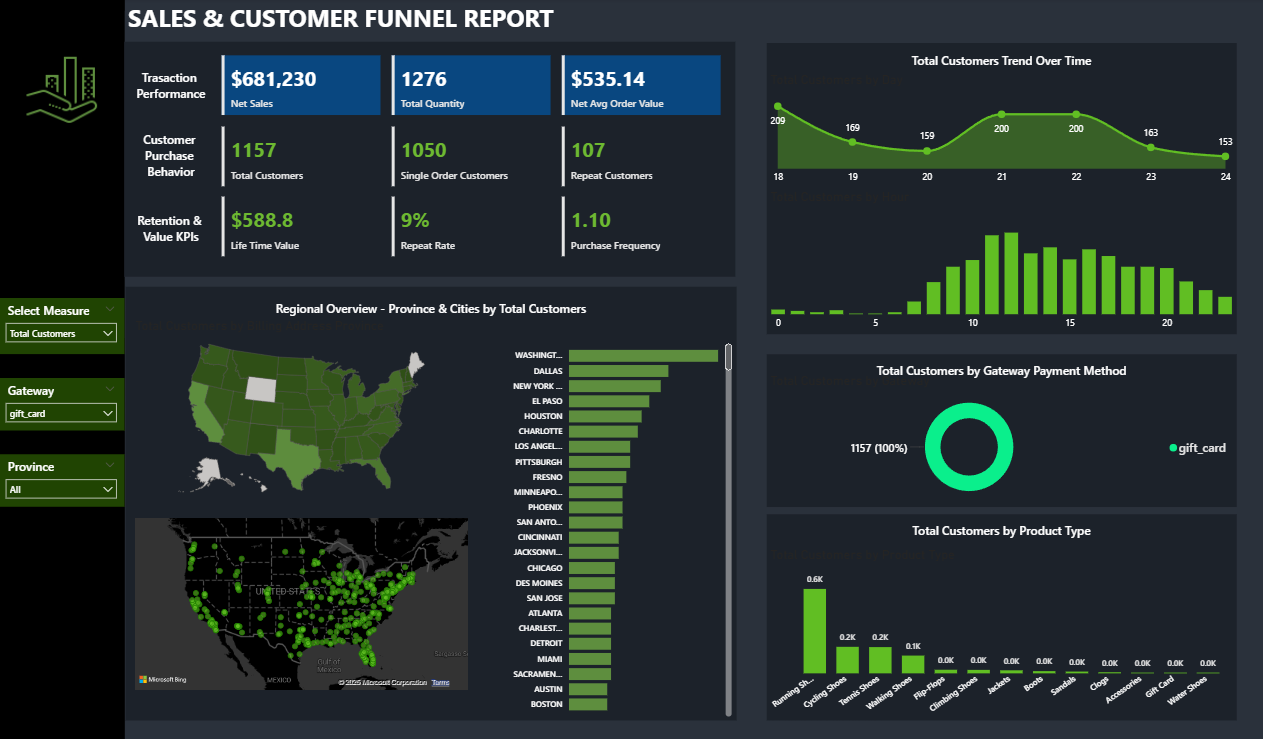

Layout of this report page (visuals, bound fields, positions):
{"tool":"powerbi","page":{"name":"Shopify Analysis","canvas":[1700,1000],"ordinal":0},"visuals":[{"type":"shape","box":[0,0,170,999],"z":0},{"type":"textbox","box":[169.2,0,754,58.6],"z":1000},{"type":"shape","box":[169.2,58.6,819.4,315],"z":2000},{"type":"cardVisual","fields":{"Data":["shopify_sales.Net Sales","shopify_sales.Total Quantity","shopify_sales.Net Avg Order Value"]},"box":[294.9,72.1,680.3,90.5],"z":3000},{"type":"card","fields":{"Values":["shopify_sales.Transaction Perf"]},"box":[169.2,82.1,125.7,70.4],"z":4000},{"type":"cardVisual","fields":{"Data":["shopify_sales.Total Customers","shopify_sales.Single Order Customers","shopify_sales.Repeat Customers"]},"box":[294.9,166.7,680.3,90.5],"z":5000},{"type":"card","fields":{"Values":["shopify_sales.Customer Purchase Behavior"]},"box":[169.2,160,125.7,93.8],"z":6000},{"type":"cardVisual","fields":{"Data":["shopify_sales.Life Time Value","shopify_sales.Repeat Rate","shopify_sales.Purchase Frequency"]},"box":[294.9,261.4,680.3,90.5],"z":7000},{"type":"card","fields":{"Values":["shopify_sales.Retention & Value KPIs"]},"box":[169.2,261.4,125.7,93.8],"z":8000},{"type":"shape","box":[170.9,387.1,819.4,581.4],"z":9000},{"type":"shapeMap","fields":{"Value":["shopify_sales.Total Customers"],"Category":["shopify_sales.Billing Address Province"]},"box":[179.3,429,455.8,249.7],"z":10000},{"type":"slicer","fields":{"Values":["Select Measure.Select Measure"]},"box":[0,402.1,169.2,75.4],"z":11000},{"type":"map","fields":{"Category":["shopify_sales.Location"]},"box":[179.3,692,455.8,241.3],"z":12000},{"type":"clusteredBarChart","fields":{"Y":["shopify_sales.Total Customers"],"Category":["shopify_sales.CITY"]},"box":[673.6,450.7,315,517.8],"z":13000},{"type":"card","fields":{"Values":["shopify_sales.Map Title"]},"box":[316.7,402.1,527.8,33.5],"z":14000},{"type":"shape","box":[1030.5,60.3,630,390.4],"z":15000},{"type":"areaChart","fields":{"Y":["shopify_sales.Total Customers"],"Category":["shopify_sales.Invoice Date.Variation.Date Hierarchy.Day"]},"box":[1030.5,98.9,630,159.2],"z":16000},{"type":"clusteredColumnChart","fields":{"Y":["shopify_sales.Total Customers"],"Category":["shopify_sales.Hour"]},"box":[1030.5,256.4,630,197.7],"z":17000},{"type":"card","fields":{"Values":["shopify_sales.Trend Title"]},"box":[1204.8,72.1,281.5,26.8],"z":18000},{"type":"shape","box":[1030.5,477.5,630,205],"z":19000},{"type":"donutChart","fields":{"Y":["shopify_sales.Total Customers"],"Category":["shopify_sales.Gateway"]},"box":[1030.5,502.7,630,179.3],"z":20000},{"type":"card","fields":{"Values":["shopify_sales.Gateway Title"]},"box":[1151.1,487.6,388.7,28.5],"z":21000},{"type":"shape","box":[1030.5,692,630,276.5],"z":22000},{"type":"columnChart","fields":{"Y":["shopify_sales.Total Customers"],"Category":["shopify_sales.Product Type"]},"box":[1030.5,735.6,630,232.9],"z":23000},{"type":"card","fields":{"Values":["shopify_sales.Product Title"]},"box":[1142.8,697.1,405.5,38.5],"z":24000},{"type":"slicer","fields":{"Values":["shopify_sales.Gateway"]},"box":[0,509.4,169.2,70.4],"z":26000},{"type":"slicer","fields":{"Values":["shopify_sales.Billing Address Province"]},"box":[0,611.6,169.2,70.4],"z":27000},{"type":"image","box":[23.5,60.3,124,125.7],"z":27001}]}

Visuals, with their boxes in screenshot pixels (x1, y1, x2, y2), scaled from the page's 1700x1000 canvas onto the 1263x739 screenshot:
shape: box(0, 0, 126, 738)
textbox: box(126, 0, 686, 43)
shape: box(126, 43, 734, 276)
cardVisual - shopify_sales.Net Sales x shopify_sales.Total Quantity: box(219, 53, 725, 120)
card - shopify_sales.Transaction Perf: box(126, 61, 219, 113)
cardVisual - shopify_sales.Total Customers x shopify_sales.Single Order Customers: box(219, 123, 725, 190)
card - shopify_sales.Customer Purchase Behavior: box(126, 118, 219, 188)
cardVisual - shopify_sales.Life Time Value x shopify_sales.Repeat Rate: box(219, 193, 725, 260)
card - shopify_sales.Retention & Value KPIs: box(126, 193, 219, 262)
shape: box(127, 286, 736, 716)
shapeMap - shopify_sales.Total Customers x shopify_sales.Billing Address Province: box(133, 317, 472, 502)
slicer - Select Measure.Select Measure: box(0, 297, 126, 353)
map - shopify_sales.Location: box(133, 511, 472, 690)
clusteredBarChart - shopify_sales.Total Customers x shopify_sales.CITY: box(500, 333, 734, 716)
card - shopify_sales.Map Title: box(235, 297, 627, 322)
shape: box(766, 45, 1234, 333)
areaChart - shopify_sales.Total Customers x shopify_sales.Invoice Date.Variation.Date Hierarchy.Day: box(766, 73, 1234, 191)
clusteredColumnChart - shopify_sales.Total Customers x shopify_sales.Hour: box(766, 189, 1234, 336)
card - shopify_sales.Trend Title: box(895, 53, 1104, 73)
shape: box(766, 353, 1234, 504)
donutChart - shopify_sales.Total Customers x shopify_sales.Gateway: box(766, 371, 1234, 504)
card - shopify_sales.Gateway Title: box(855, 360, 1144, 381)
shape: box(766, 511, 1234, 716)
columnChart - shopify_sales.Total Customers x shopify_sales.Product Type: box(766, 544, 1234, 716)
card - shopify_sales.Product Title: box(849, 515, 1150, 544)
slicer - shopify_sales.Gateway: box(0, 376, 126, 428)
slicer - shopify_sales.Billing Address Province: box(0, 452, 126, 504)
image: box(17, 45, 110, 137)
